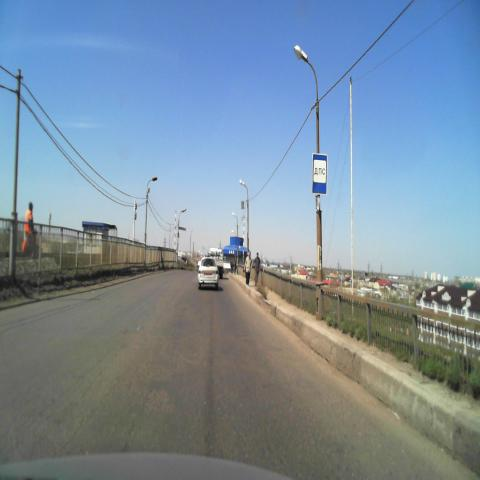7_12: (312, 153, 328, 195)
